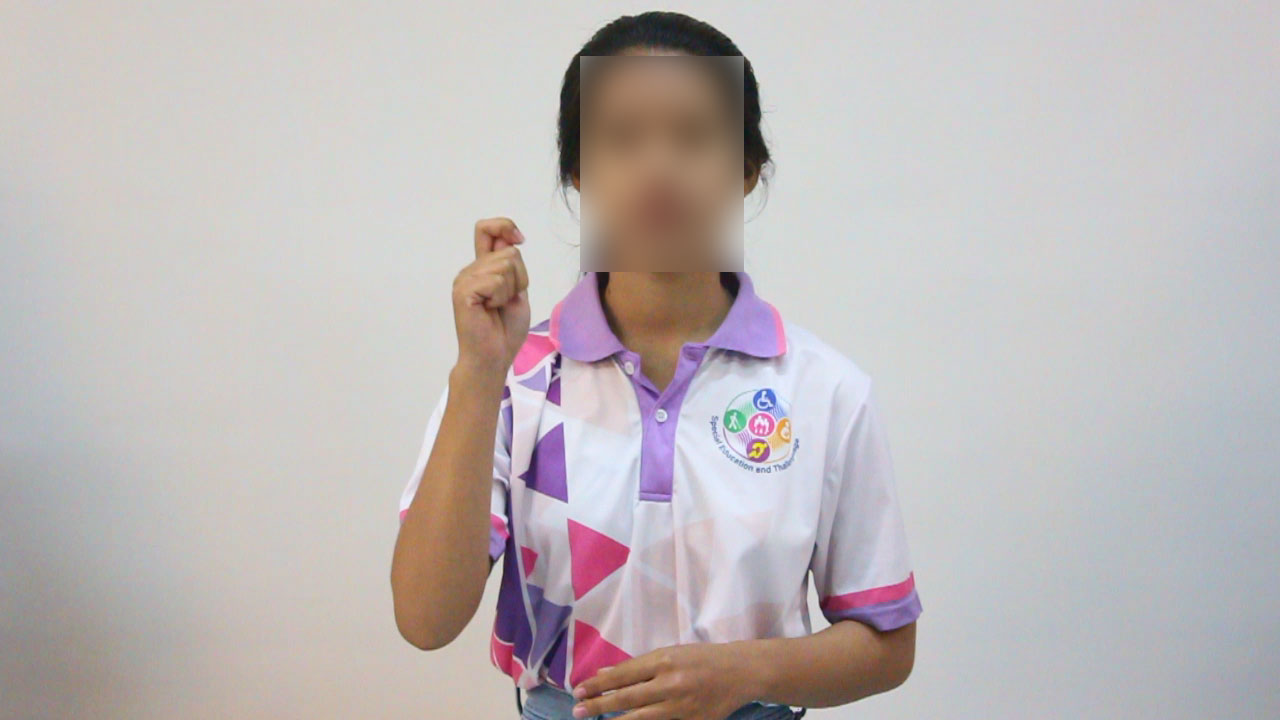or: (439, 212, 541, 382)
